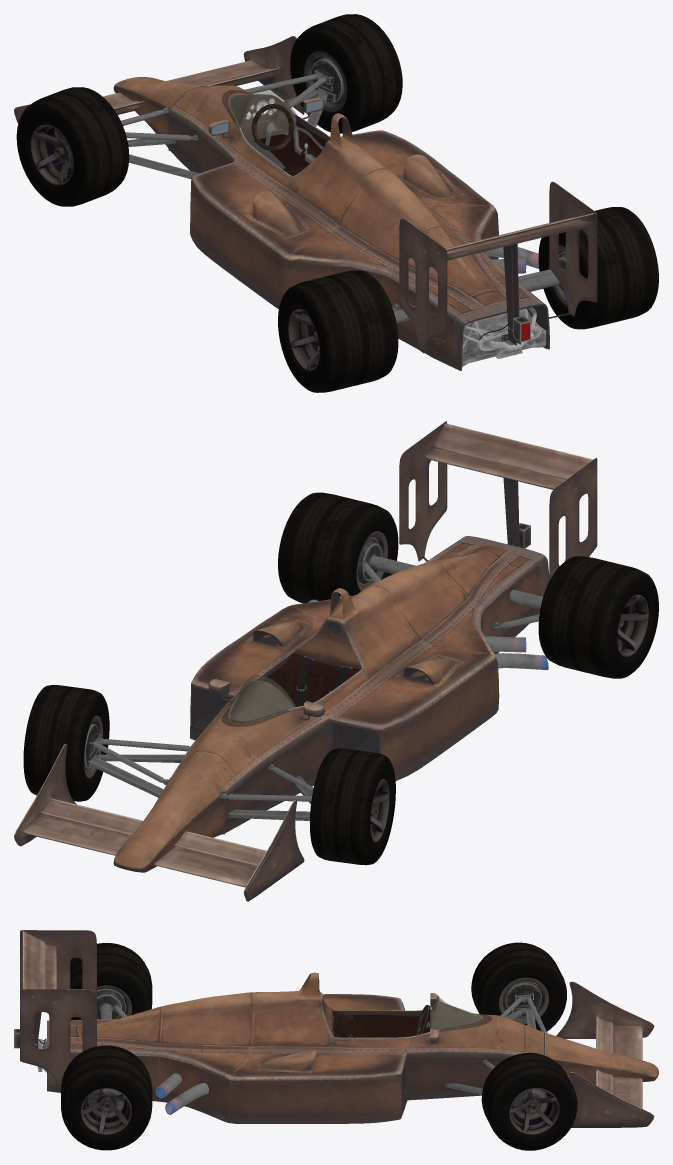
File: formula-racer.glb
The picture shows the model from 3 angles, top to bottom: view 1: azimuth 30°, elevation 25°; view 2: azimuth 150°, elevation 25°; view 3: azimuth 270°, elevation 25°; orthographic projection. The views are drawn at different scales.
Visible parts, largest first — view 1: body, wheel-rear-left, wheel-front-left, wheel-front-right, wheel-rear-right; view 2: body, wheel-rear-left, wheel-rear-right, wheel-front-left, wheel-front-right; view 3: body, wheel-rear-right, wheel-front-right, wheel-front-left, wheel-rear-left.
Part boxes in pixels (left/top/right/bottom): body: left=14, top=36, right=597, bottom=370; wheel-rear-left: left=278, top=270, right=398, bottom=392; wheel-front-left: left=16, top=87, right=129, bottom=206; wheel-front-right: left=290, top=14, right=402, bottom=133; wheel-rear-right: left=538, top=207, right=658, bottom=329; body: left=14, top=421, right=597, bottom=901; wheel-rear-left: left=538, top=556, right=658, bottom=678; wheel-rear-right: left=278, top=492, right=398, bottom=603; wheel-front-left: left=309, top=748, right=395, bottom=865; wheel-front-right: left=23, top=685, right=109, bottom=801; body: left=14, top=930, right=658, bottom=1127; wheel-rear-right: left=61, top=1045, right=152, bottom=1150; wheel-front-right: left=481, top=1053, right=577, bottom=1150; wheel-front-left: left=471, top=942, right=566, bottom=1031; wheel-rear-left: left=70, top=943, right=152, bottom=1020.
Size of the model in its own units: 2.31 by 1.01 by 4.6.
Materials: 3 (3 with a texture image).
